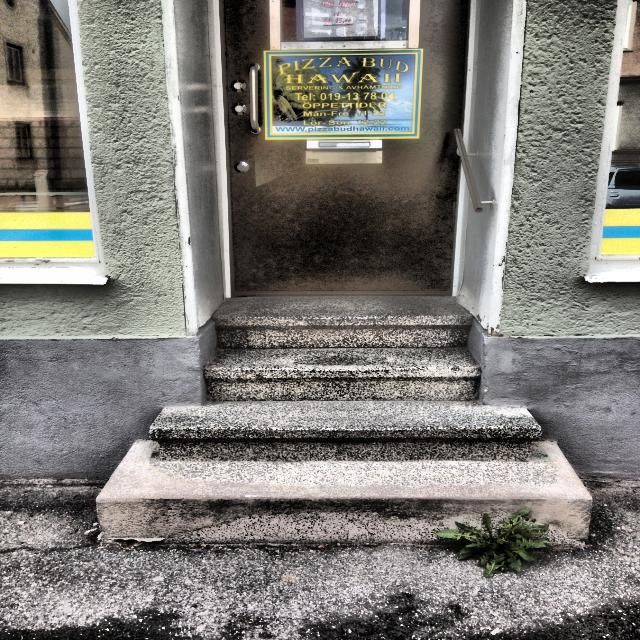escada: (91, 297, 594, 544)
